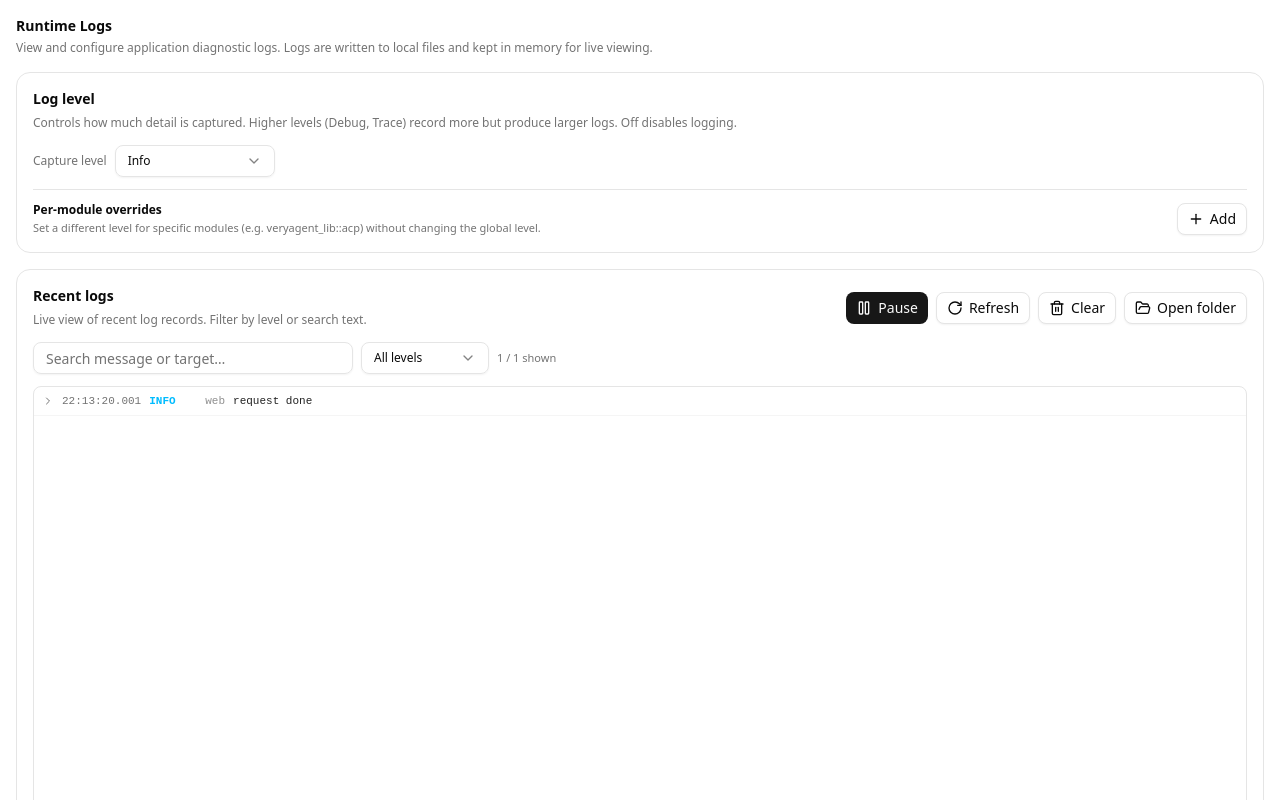
Test: LogsSettings › expands a record to show its fields and span chain
Expected: the text "request done" is shown, [233,391,312,411]
Click the button named "Toggle details" at (48, 401), box [42,391,54,411]
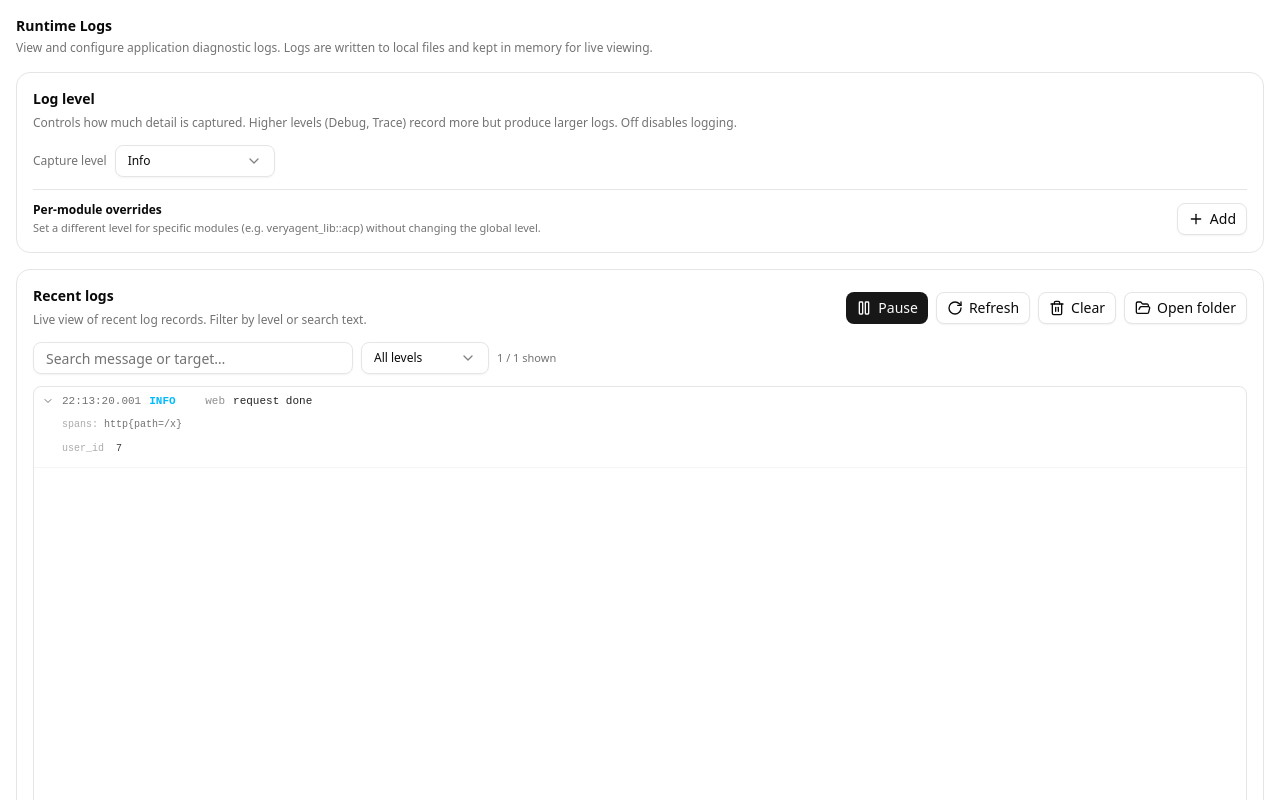
Now the text "user_id" is shown, box [62,443,104,454]
Now the text "7" is shown, box [116,443,122,454]
Now the text "spans: http{path=/x}" is shown, box [62,419,182,430]
